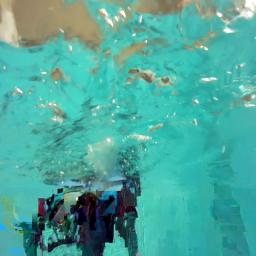back: (35, 183, 143, 255)
